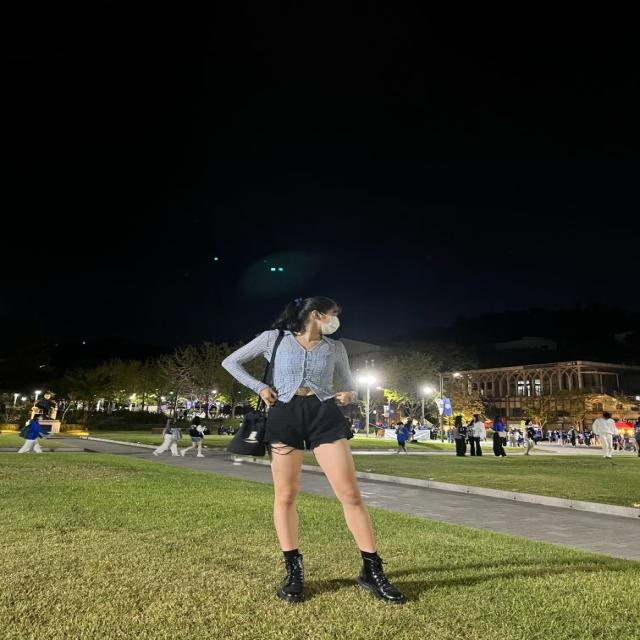cardigan: (224, 327, 359, 404)
shortpants: (260, 396, 356, 450)
